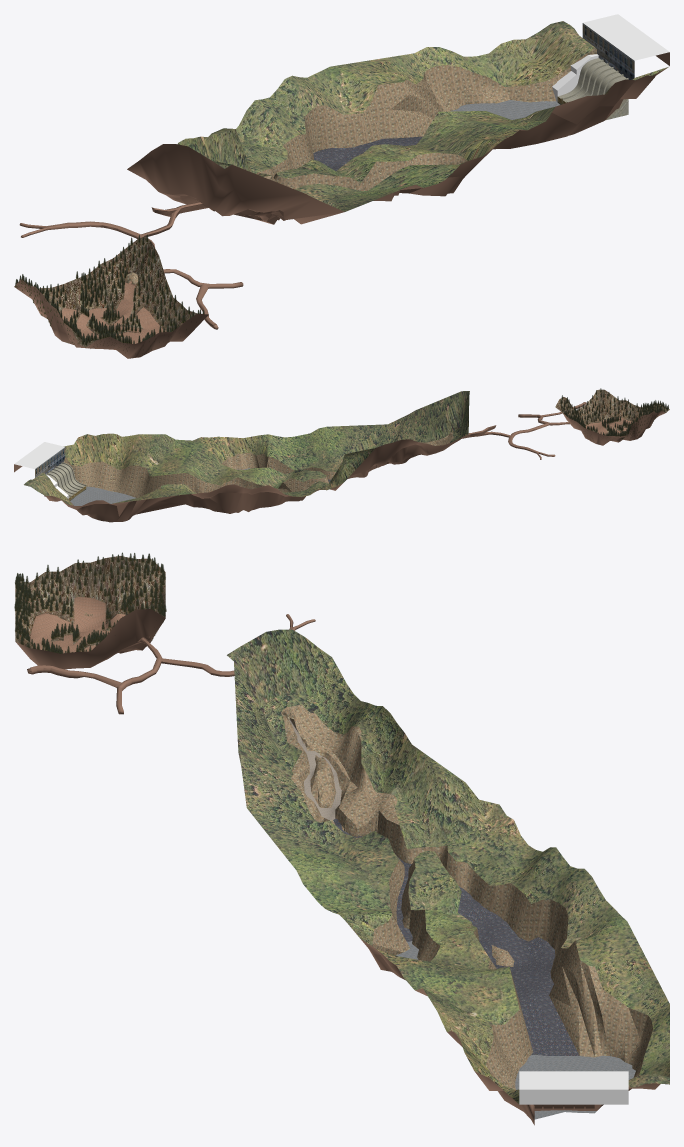
File: forest_tunnel-maze.glb
The picture shows the model from 3 angles, top to bottom: view 1: azimuth 30°, elevation 25°; view 2: azimuth 150°, elevation 25°; view 3: azimuth 270°, elevation 25°; orthographic projection. The views are drawn at different scales.
Parts seen in each view (by area): view 1: Material3 (×9), Material2 (×2); view 2: Material3 (×8), Material2 (×2); view 3: Material3 (×9), Material2.
Boxes of the visible parts, box(x1,y1,x2,y2) form: Material3 (×9): box(14, 14, 669, 358); Material2 (×2): box(15, 58, 628, 353); Material3 (×8): box(14, 389, 669, 522); Material2 (×2): box(46, 388, 668, 497); Material3 (×9): box(15, 556, 669, 1125); Material2: box(14, 552, 166, 653).
Size of what is drawn, in the model's own units: 23998 by 5528 by 15692.
Materials: 14 (13 with a texture image).
